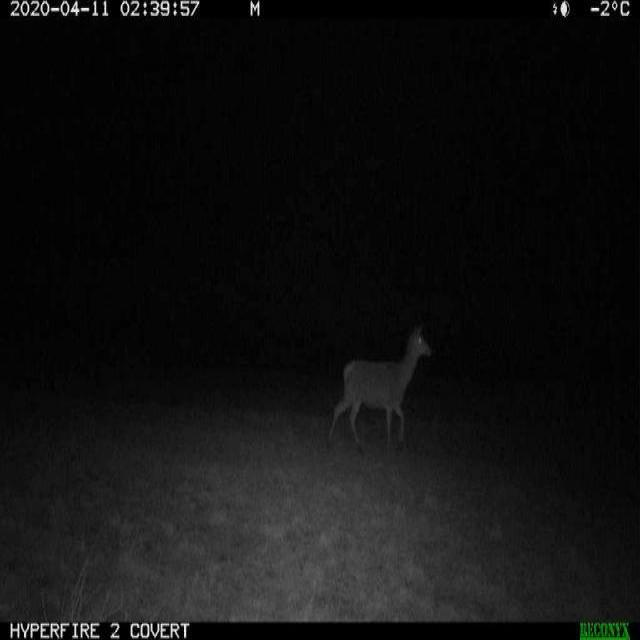deer: (334, 315, 437, 468)
